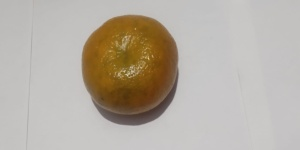BAD: (81, 14, 180, 116)
